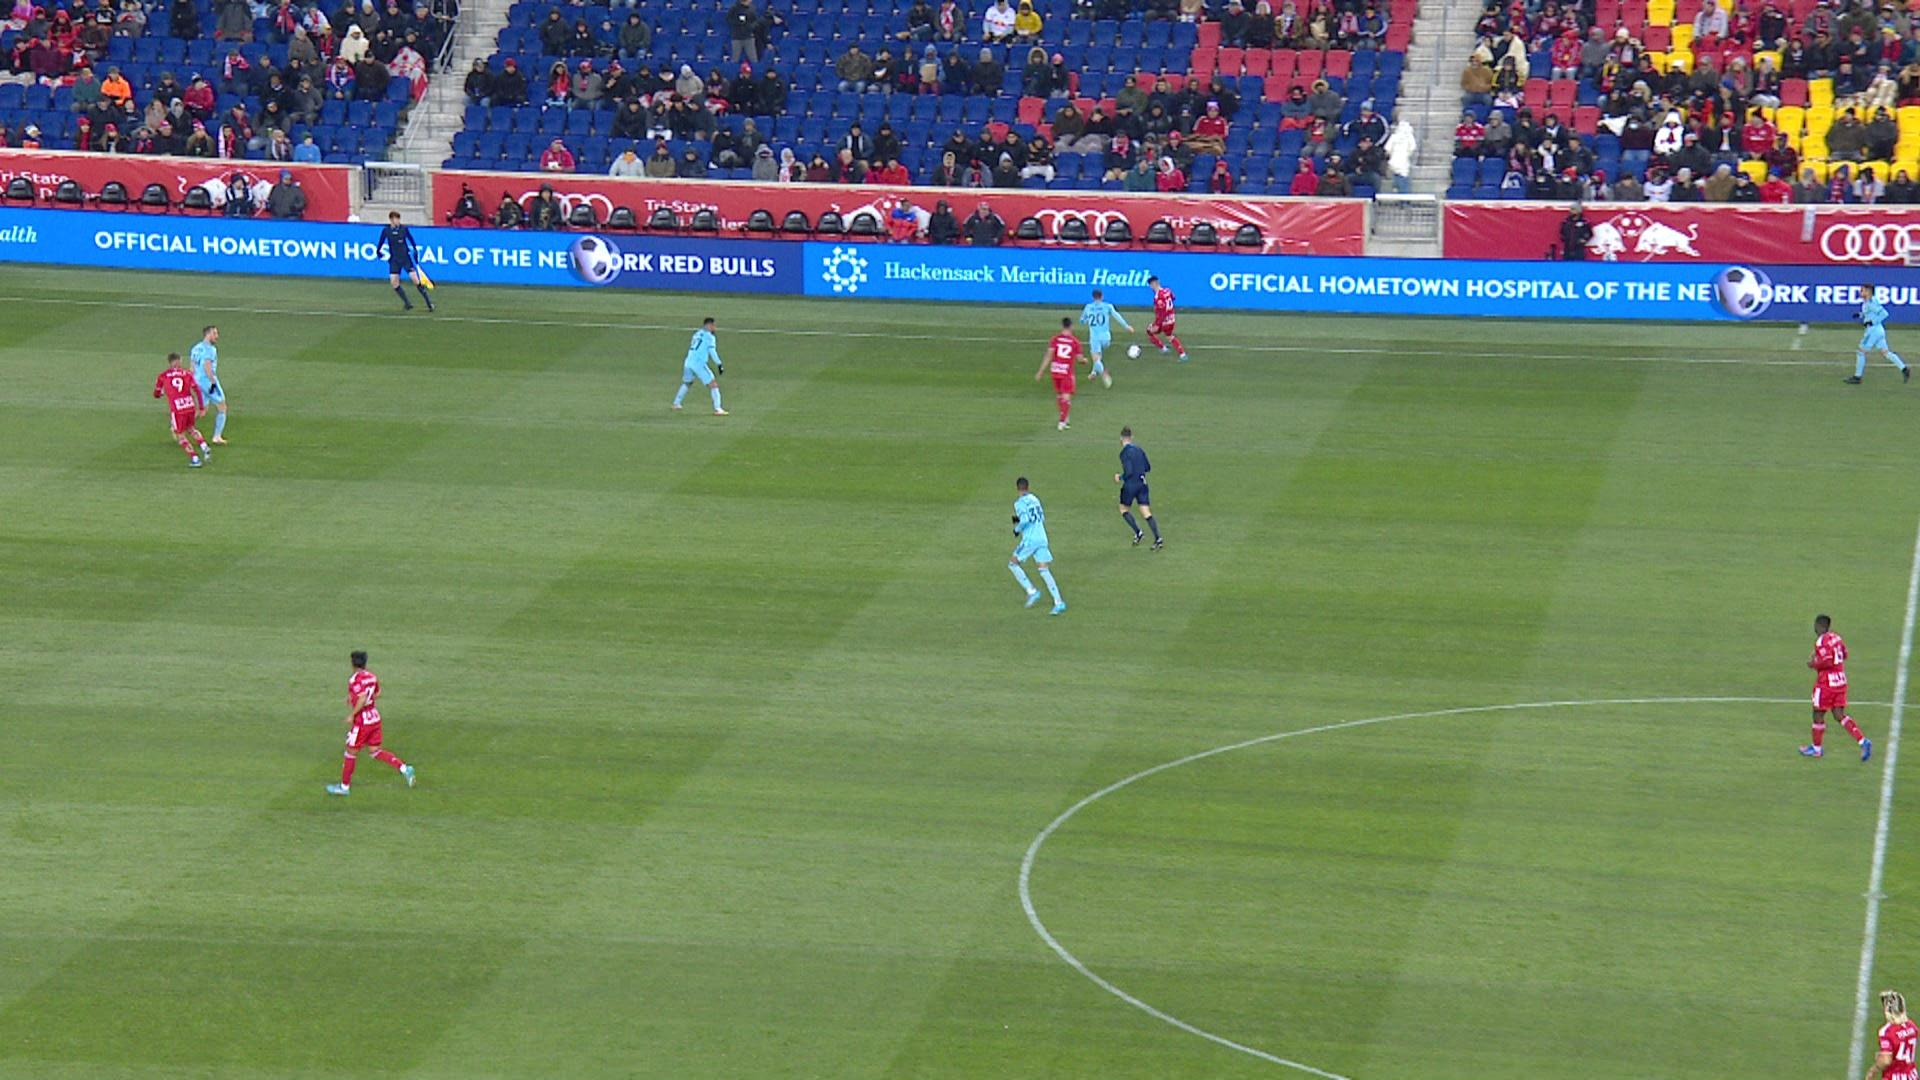football: (1126, 345, 1142, 360)
